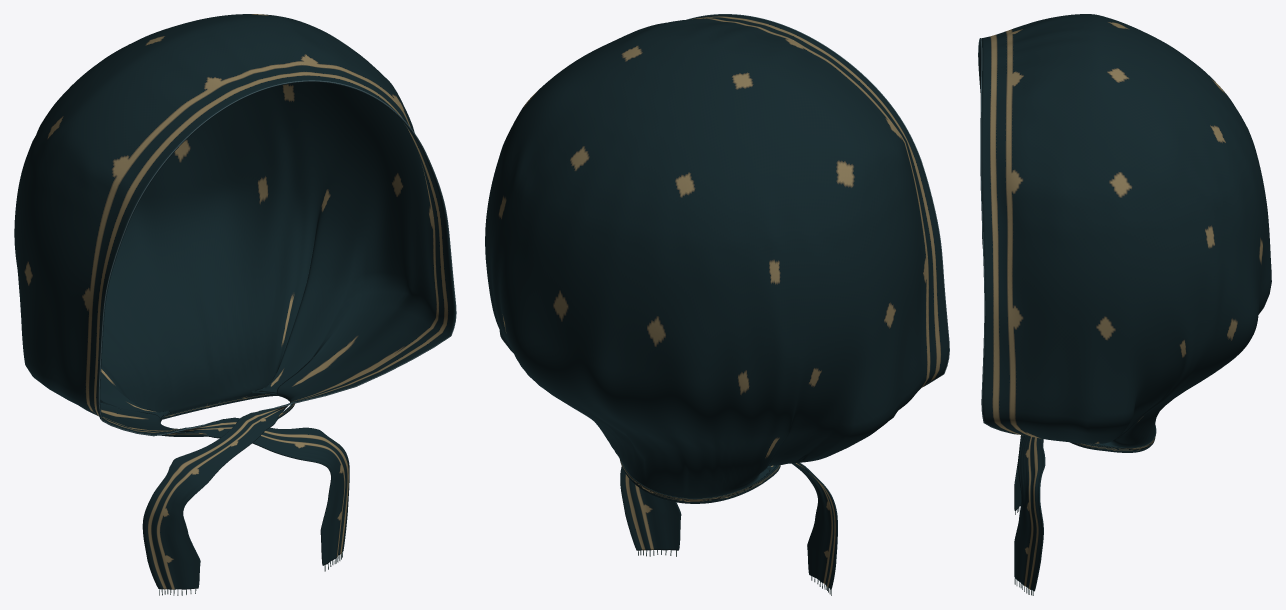
Rendered from Masculine-taper-buttonup-pashmina249-headgear.glb.
3 views of the same model, side by side, from view 1: azimuth 30°, elevation 25°; view 2: azimuth 150°, elevation 25°; view 3: azimuth 270°, elevation 25° (orthographic). The views are drawn at different scales.
Visible parts, largest first — view 1: 226 headgear / Headwear / continuous woven pashmina239, 226 headgear / Headwear / face edge239; view 2: 226 headgear / Headwear / continuous woven pashmina239, 226 headgear / Headwear / face edge239; view 3: 226 headgear / Headwear / continuous woven pashmina239, 226 headgear / Headwear / face edge239.
Part boxes in pixels (left/top/right/bottom): 226 headgear / Headwear / continuous woven pashmina239: left=14, top=14, right=455, bottom=589; 226 headgear / Headwear / face edge239: left=98, top=80, right=456, bottom=436; 226 headgear / Headwear / continuous woven pashmina239: left=485, top=14, right=948, bottom=589; 226 headgear / Headwear / face edge239: left=687, top=14, right=949, bottom=387; 226 headgear / Headwear / continuous woven pashmina239: left=978, top=14, right=1271, bottom=591; 226 headgear / Headwear / face edge239: left=978, top=38, right=1017, bottom=434.
Size of the model in its own units: 1.03 by 1.41 by 0.7255.
Materials: 3 (1 with a texture image).
